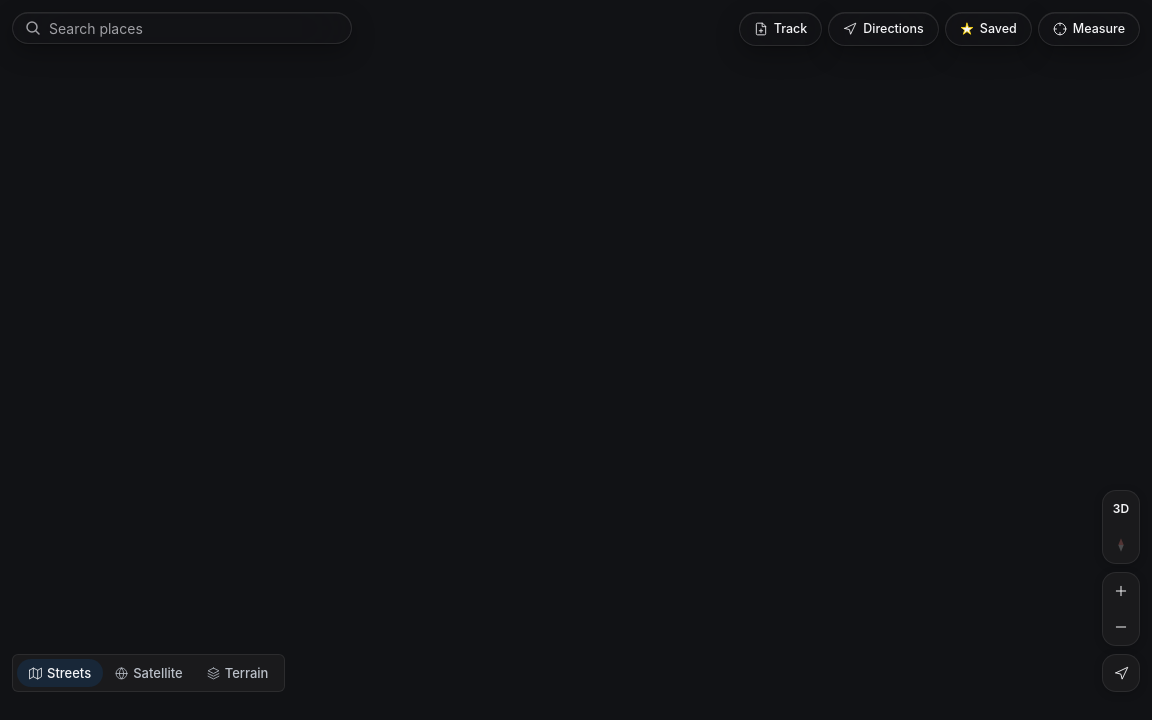
Test: measures each segment of a map path and can undo the last point
Click the button with aria-label "Measure distance" at (1089, 29), box x1=1038 y1=12 x2=1140 y2=46
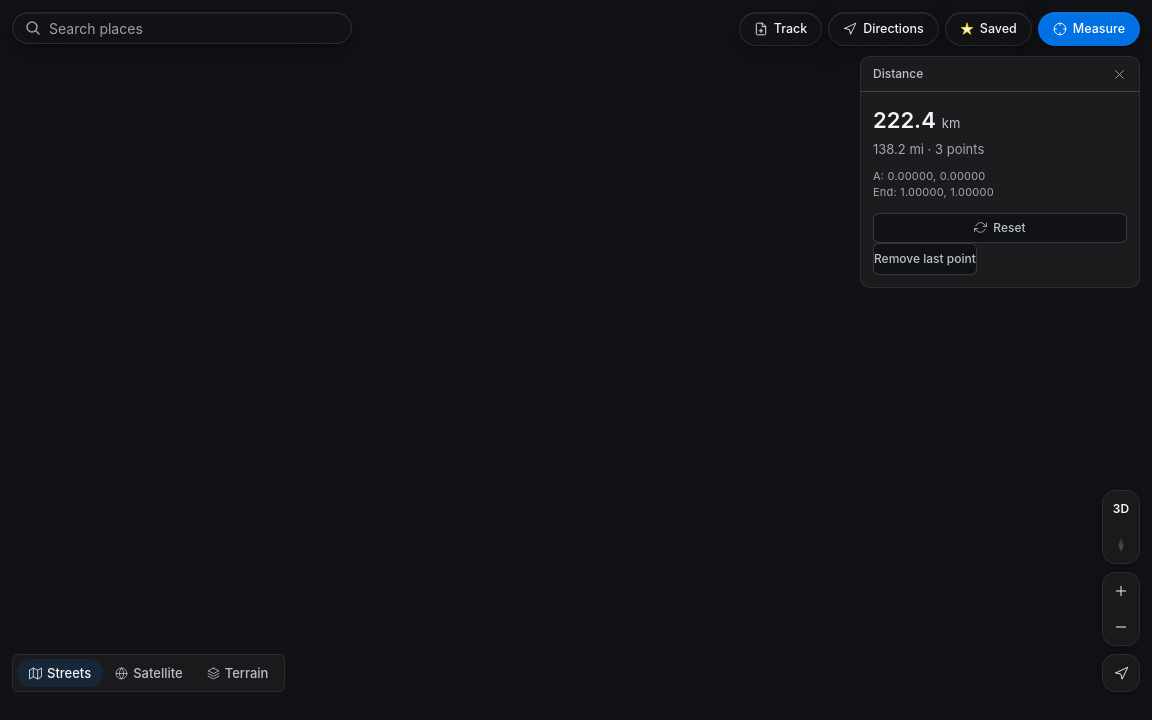
Expected: the text "138.2 mi · 3 points" is shown, x1=873 y1=141 x2=984 y2=157
Click the button "Remove last point" at (925, 259), box x1=873 y1=243 x2=977 y2=275
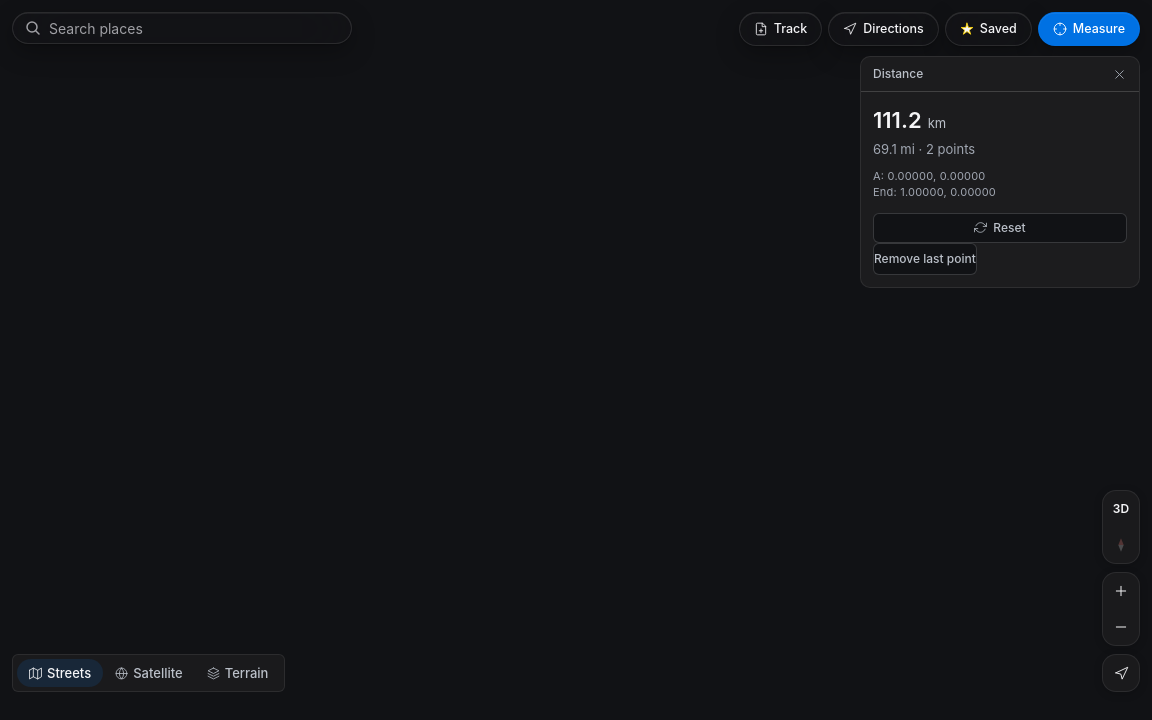
Expected: the text "69.1 mi · 2 points" is shown, x1=873 y1=141 x2=975 y2=157
